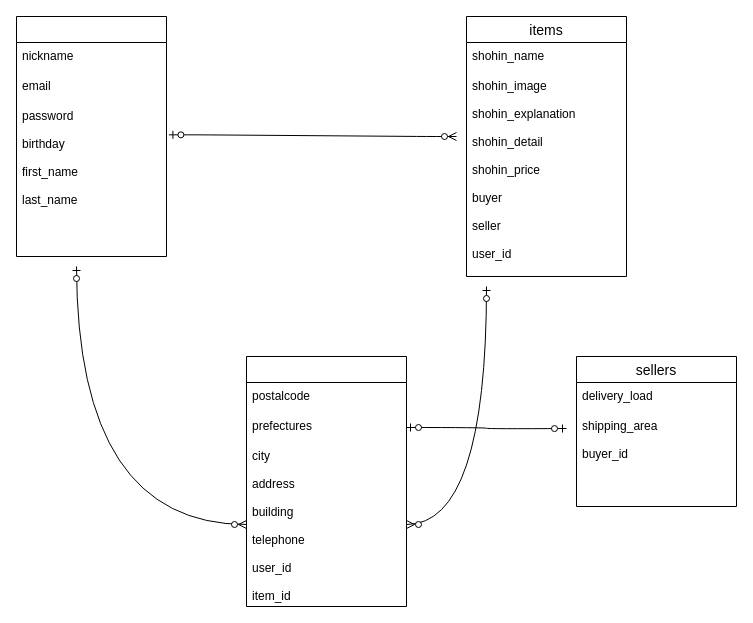
The diagram is 753 pixels wide and 623 high, and some of its shapes have lost their labels. Here are the shapes that lost their labels. From the top down, the box of each, then its label:
(16, 16, 166, 256): users
(246, 356, 406, 606): buyers
